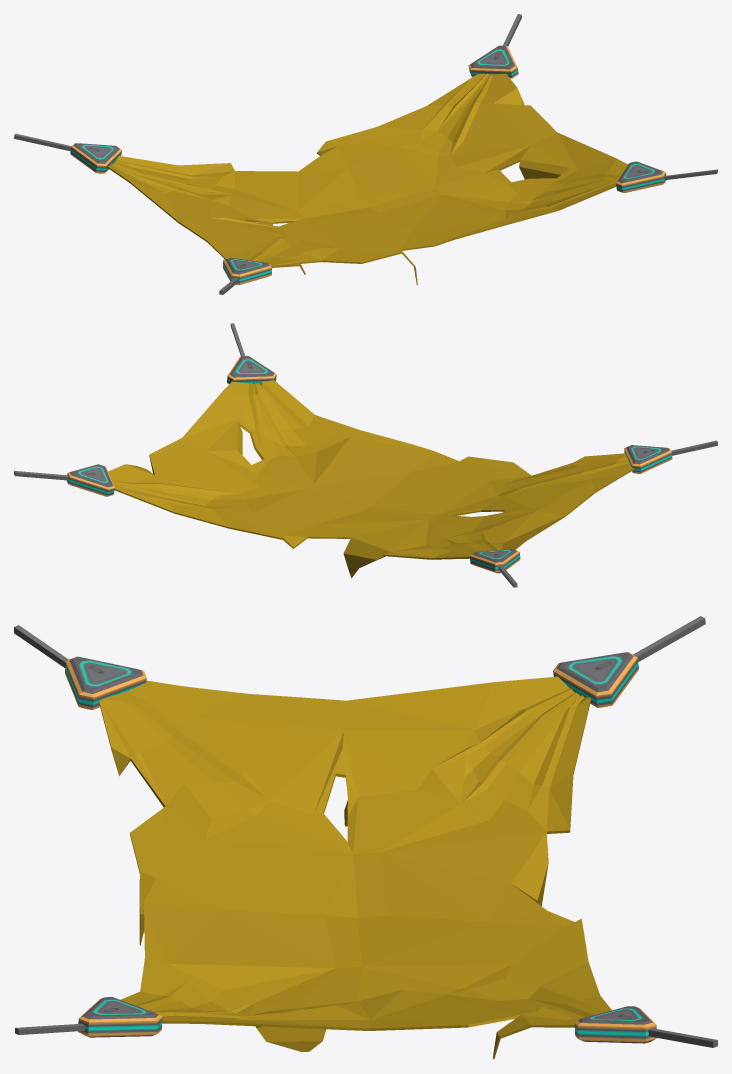
The model's file is SM_Prop_Canopy_02.fbx.
3 views of the same model, one above another, from view 1: azimuth 30°, elevation 25°; view 2: azimuth 150°, elevation 25°; view 3: azimuth 270°, elevation 25° (orthographic). The views are drawn at different scales.
Visible parts, largest first — view 1: SM_Prop_Canopy_02; view 2: SM_Prop_Canopy_02; view 3: SM_Prop_Canopy_02.
Boxes of the visible parts, <box> form: SM_Prop_Canopy_02: <box>14,14,717,294</box>; SM_Prop_Canopy_02: <box>14,323,717,587</box>; SM_Prop_Canopy_02: <box>14,616,717,1059</box>.
Bounding box in the file's own units: 768 × 120 × 550.
